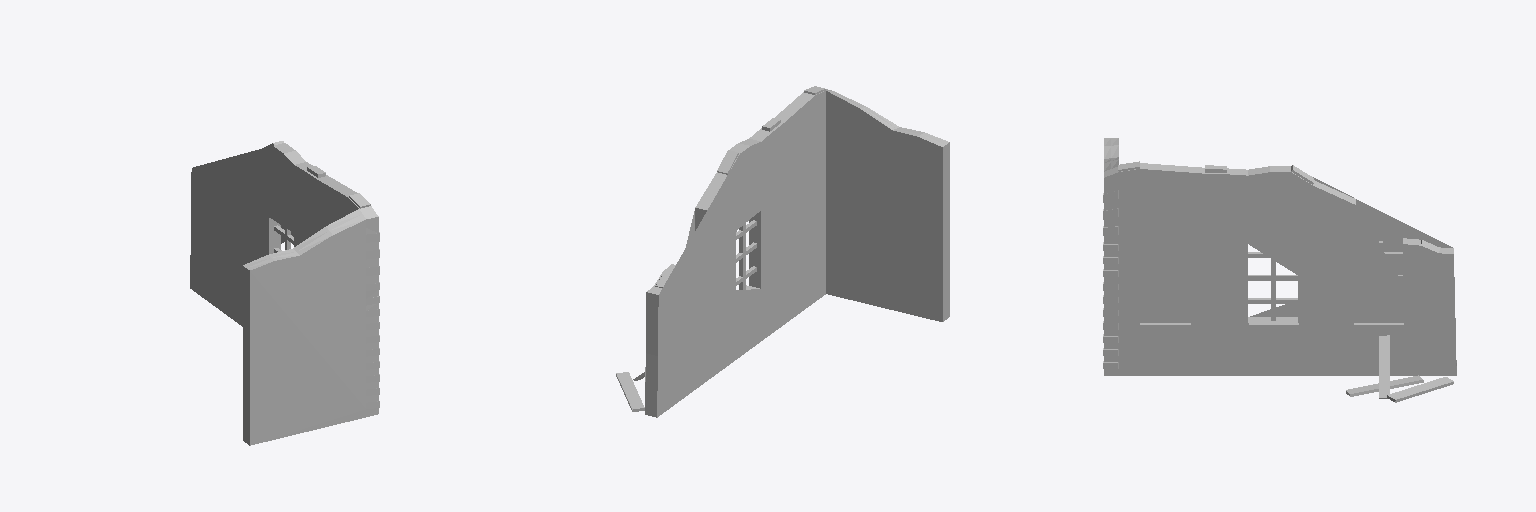
The model's file is Stone windows.obj.
3 renders of one model, left to right at view 1: azimuth 30°, elevation 25°; view 2: azimuth 150°, elevation 25°; view 3: azimuth 270°, elevation 25°, orthographic.
Visible parts, largest first — view 1: Cube.004_Cube.005; view 2: Cube.004_Cube.005; view 3: Cube.004_Cube.005.
Part boxes in pixels (x1,y1,x2,y2): Cube.004_Cube.005: (190,141,379,445); Cube.004_Cube.005: (616,86,949,417); Cube.004_Cube.005: (1103,138,1456,402).
Bounding box in the file's own units: 1.01 × 1.09 × 1.65.